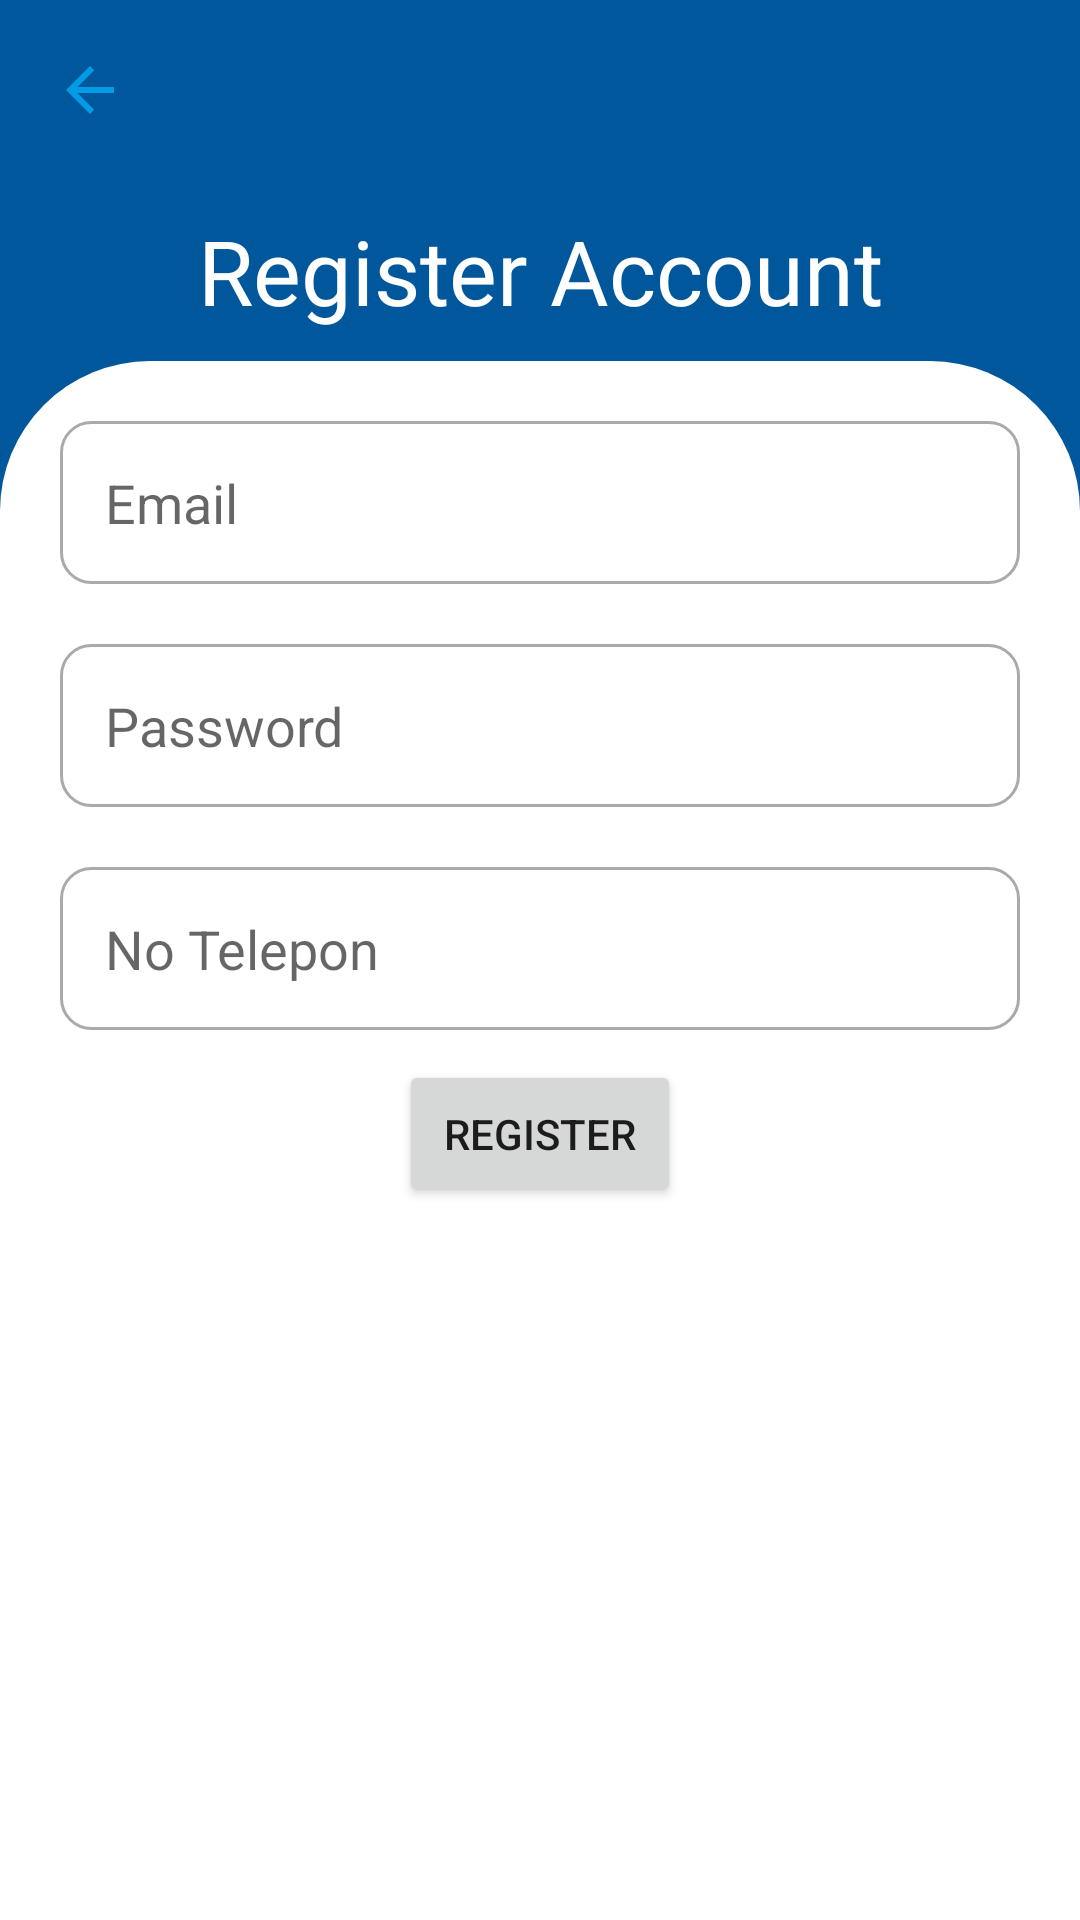

Icon click points for this 1080*1920 phone screenshot, format (x,y):
arrow back for frag: (90,90)
